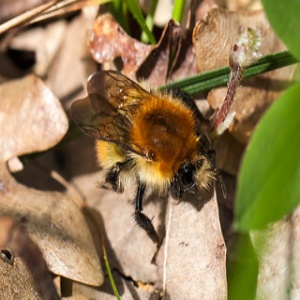bee: (84, 71, 226, 202)
